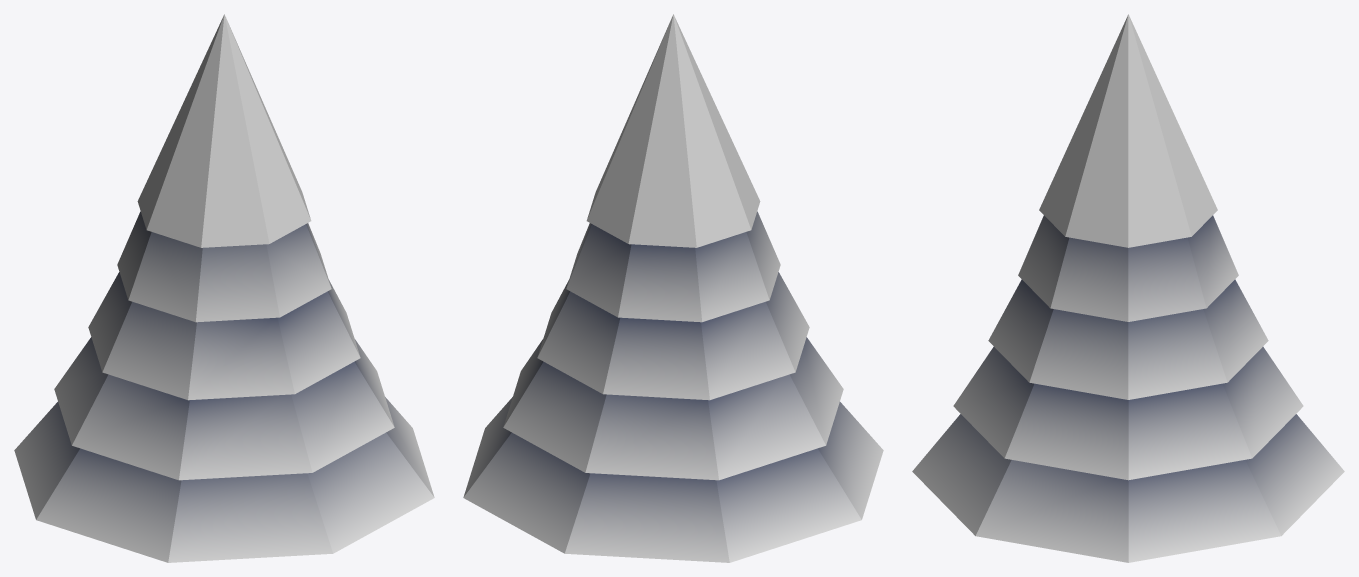
The model's file is Tree.Leaves.obj.
The picture shows the model from 3 angles, left to right: view 1: azimuth 30°, elevation 25°; view 2: azimuth 150°, elevation 25°; view 3: azimuth 270°, elevation 25°; orthographic projection.
Parts seen in each view (by area): view 1: Cylinder.001; view 2: Cylinder.001; view 3: Cylinder.001.
Part boxes in pixels (bbox=[...]): Cylinder.001: bbox=[14, 14, 434, 562]; Cylinder.001: bbox=[463, 14, 883, 562]; Cylinder.001: bbox=[912, 14, 1344, 562].
Size of the model in its own units: 6 by 7 by 6.
